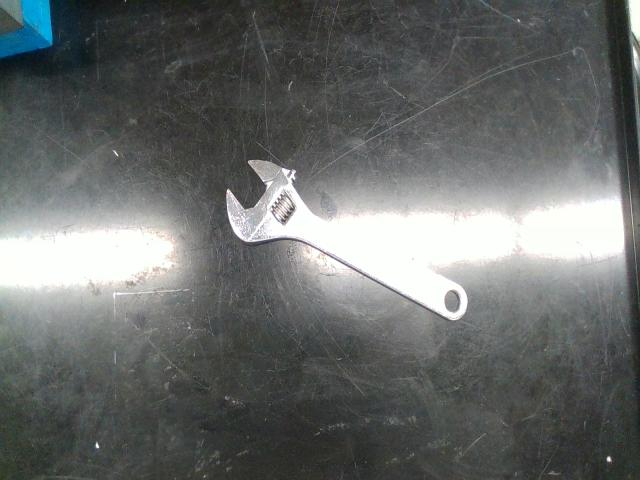Adjustable spanner: (226, 160, 468, 321)
